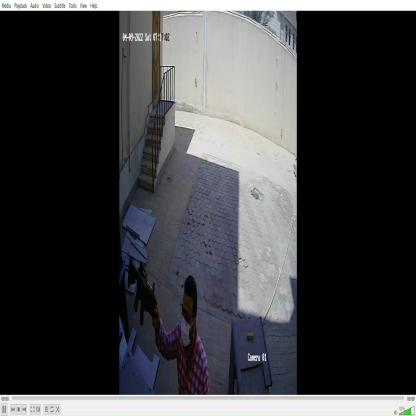handgun: (127, 252, 164, 340)
